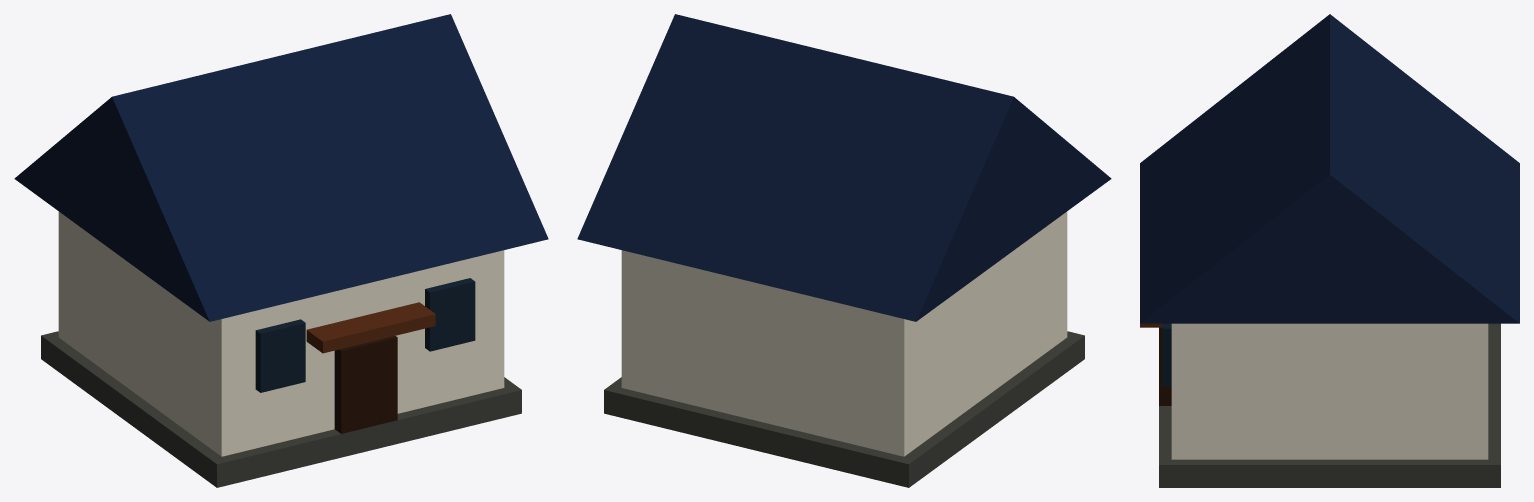
The model's file is house_t1_v4.glb.
The picture shows the model from 3 angles, left to right: view 1: azimuth 30°, elevation 25°; view 2: azimuth 150°, elevation 25°; view 3: azimuth 270°, elevation 25°; orthographic projection. The views are drawn at different scales.
Parts seen in each view (by area): view 1: house_t1_v4; view 2: house_t1_v4; view 3: house_t1_v4.
Boxes of the visible parts, left/top/right/bottom form: house_t1_v4: left=14, top=14, right=548, bottom=487; house_t1_v4: left=577, top=14, right=1111, bottom=487; house_t1_v4: left=1140, top=14, right=1519, bottom=487.
Size of the model in its own units: 0.6 by 0.56 by 0.6.
Materials: 1 (1 with a texture image).
